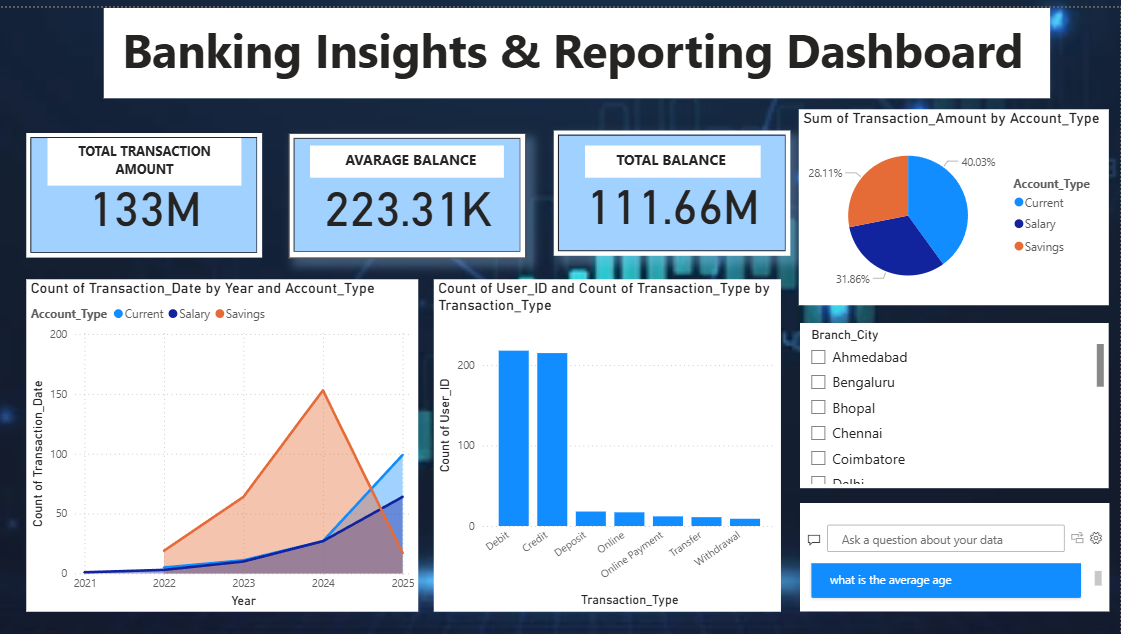

This screenshot's page, from the dashboard's own definition file:
{"tool":"powerbi","page":{"name":"Page 1","canvas":[1280,720],"ordinal":0},"visuals":[{"type":"cardVisual","fields":{"Data":["select","select1","Sum(banking_cleanded_dataset (2).Account_Balance)"]},"box":[632.8,140.4,270.5,143.4],"z":0},{"type":"cardVisual","fields":{"Data":["Avg(banking_cleanded_dataset (2).Account_Balance)","select"]},"box":[330,142.9,271.4,142.9],"z":1000},{"type":"cardVisual","fields":{"Data":["Sum(banking_cleanded_dataset (2).Transaction_Amount)"]},"box":[29.7,142.4,269.9,142.4],"z":2000},{"type":"textbox","box":[54.5,148.6,221.6,54.5],"z":3000},{"type":"textbox","box":[668.2,156.7,201.1,37],"z":4000},{"type":"textbox","box":[354.8,156.7,221.8,37],"z":5000},{"type":"textbox","box":[118.3,0,1081.7,103.3],"z":6000},{"type":"pieChart","fields":{"Category":["banking_cleanded_dataset (2).Account_Type"],"Y":["Sum(banking_cleanded_dataset (2).Transaction_Amount)","select"]},"box":[912.9,115.7,354.3,224.3],"z":7000},{"type":"lineClusteredColumnComboChart","fields":{"Category":["banking_cleanded_dataset (2).Transaction_Type"],"Y":["CountNonNull(banking_cleanded_dataset (2).User_ID)"]},"box":[495,310,396.7,380],"z":8000},{"type":"areaChart","fields":{"Category":["banking_cleanded_dataset (2).Transaction_Date.Variation.Date Hierarchy.Year","banking_cleanded_dataset (2).Transaction_Date.Variation.Date Hierarchy.Quarter","banking_cleanded_dataset (2).Transaction_Date.Variation.Date Hierarchy.Month","banking_cleanded_dataset (2).Transaction_Date.Variation.Date Hierarchy.Day"],"Series":["banking_cleanded_dataset (2).Account_Type"],"Y":["CountNonNull(banking_cleanded_dataset (2).Transaction_Date)"]},"box":[30,310,448.3,380],"z":9000},{"type":"qnaVisual","box":[913.8,566.2,353.8,123.8],"z":10000},{"type":"slicer","fields":{"Values":["banking_cleanded_dataset (2).Branch_City"]},"box":[913.8,360,352.5,188.8],"z":11000}]}

Visuals, with their boxes in screenshot pixels (x1, y1, x2, y2), scaled from the page's 1280x720 canvas onto the 1121x634 screenshot:
cardVisual - select x select1: x1=554 y1=124 x2=791 y2=250
cardVisual - Avg(banking_cleanded_dataset (2).Account_Balance) x select: x1=289 y1=126 x2=527 y2=252
cardVisual - Sum(banking_cleanded_dataset (2).Transaction_Amount): x1=26 y1=125 x2=262 y2=251
textbox: x1=48 y1=131 x2=242 y2=179
textbox: x1=585 y1=138 x2=761 y2=171
textbox: x1=311 y1=138 x2=505 y2=171
textbox: x1=104 y1=0 x2=1051 y2=91
pieChart - banking_cleanded_dataset (2).Account_Type x Sum(banking_cleanded_dataset (2).Transaction_Amount): x1=800 y1=102 x2=1110 y2=299
lineClusteredColumnComboChart - banking_cleanded_dataset (2).Transaction_Type x CountNonNull(banking_cleanded_dataset (2).User_ID): x1=434 y1=273 x2=781 y2=608
areaChart - banking_cleanded_dataset (2).Transaction_Date.Variation.Date Hierarchy.Year x banking_cleanded_dataset (2).Transaction_Date.Variation.Date Hierarchy.Quarter: x1=26 y1=273 x2=419 y2=608
qnaVisual: x1=800 y1=499 x2=1110 y2=608
slicer - banking_cleanded_dataset (2).Branch_City: x1=800 y1=317 x2=1109 y2=483
